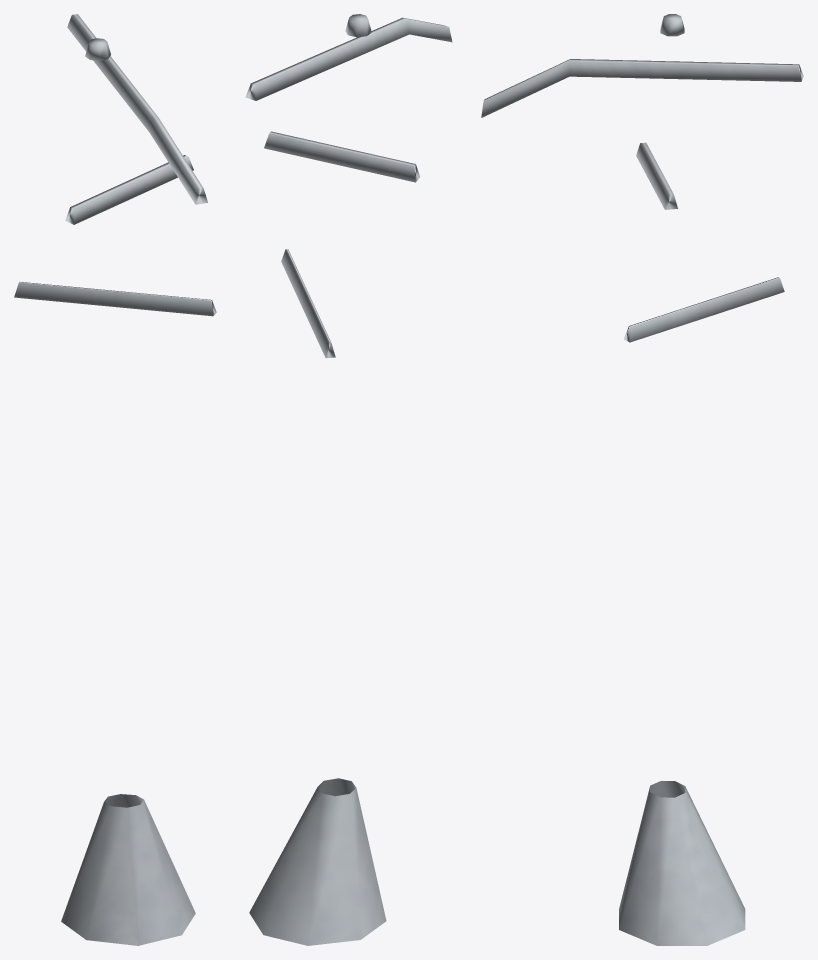
Rendered from Sign_Post_Snow.fbx.
3 renders of one model, left to right at view 1: azimuth 30°, elevation 25°; view 2: azimuth 150°, elevation 25°; view 3: azimuth 270°, elevation 25°, orthographic. The views are drawn at different scales.
Parts seen in each view (by area): view 1: Sign_Post_Snow; view 2: Sign_Post_Snow; view 3: Sign_Post_Snow.
Boxes of the visible parts, x1=… form: Sign_Post_Snow: x1=14, y1=14, x2=216, y2=945; Sign_Post_Snow: x1=245, y1=14, x2=452, y2=945; Sign_Post_Snow: x1=481, y1=14, x2=803, y2=945.
Size of the model in its own units: 40.7 by 243 by 80.37.
